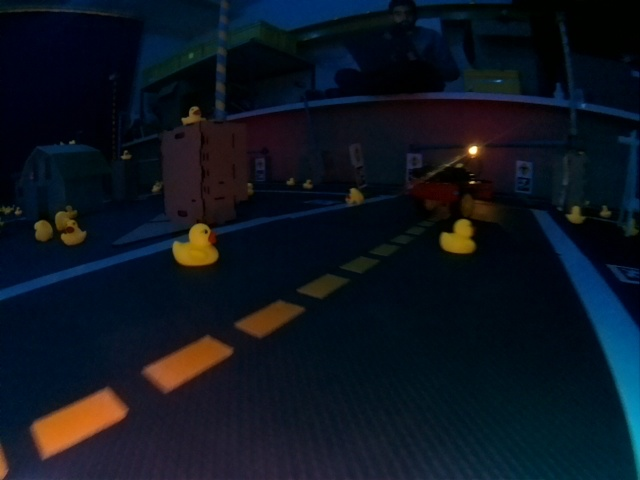Duckie: (172, 224, 210, 264), (441, 219, 477, 254), (61, 223, 85, 245), (181, 107, 205, 125), (566, 207, 586, 225), (344, 188, 364, 205), (33, 220, 49, 240), (599, 206, 612, 218), (246, 183, 256, 195), (303, 180, 313, 189), (286, 177, 295, 186), (122, 150, 131, 159), (14, 207, 23, 216), (152, 185, 161, 192)
Intersection sign: (518, 163, 532, 178)
QR code: (516, 178, 531, 192)
